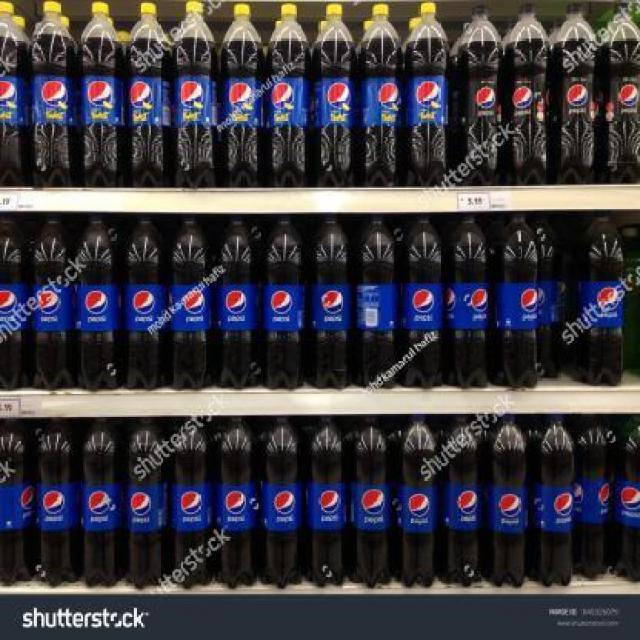Drinks: (77, 1, 126, 188), (29, 1, 77, 188), (550, 2, 599, 185), (172, 1, 220, 187), (125, 2, 173, 188), (74, 212, 123, 392), (455, 3, 503, 186), (404, 2, 451, 187), (311, 3, 358, 188), (502, 4, 550, 185), (220, 3, 266, 188), (266, 4, 312, 188), (121, 212, 168, 391), (346, 414, 394, 589), (122, 416, 170, 590), (168, 213, 214, 392), (398, 212, 444, 390), (578, 210, 624, 388), (484, 414, 531, 588), (260, 213, 306, 390), (306, 213, 352, 390), (492, 210, 538, 387), (214, 213, 260, 390), (359, 3, 403, 188), (29, 212, 74, 391), (445, 212, 490, 390), (170, 416, 216, 590), (531, 413, 577, 587), (354, 212, 398, 390), (439, 414, 483, 588), (598, 2, 640, 184), (79, 417, 123, 588), (216, 416, 259, 590), (260, 416, 303, 590), (303, 414, 346, 588), (396, 414, 438, 588), (36, 418, 78, 585), (578, 414, 616, 580), (0, 418, 35, 587), (0, 1, 29, 187), (0, 213, 29, 392), (615, 414, 640, 581)
